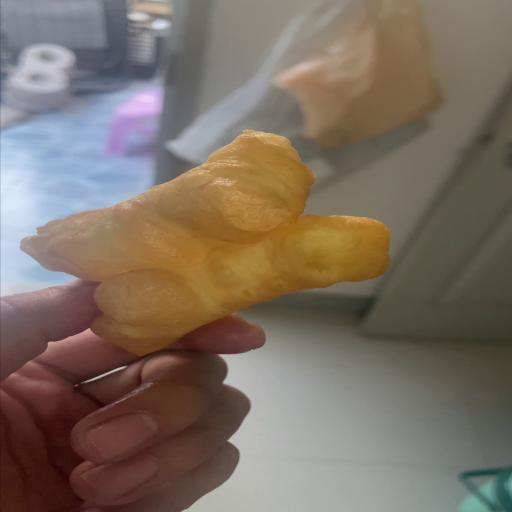street_golden_good: (19, 134, 390, 354)
